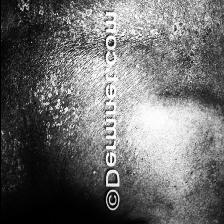Non-Cancerous Skin Condition: (0, 0, 100, 185), (118, 0, 224, 168)
